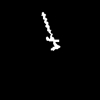double_crochet: (42, 13, 59, 49)
